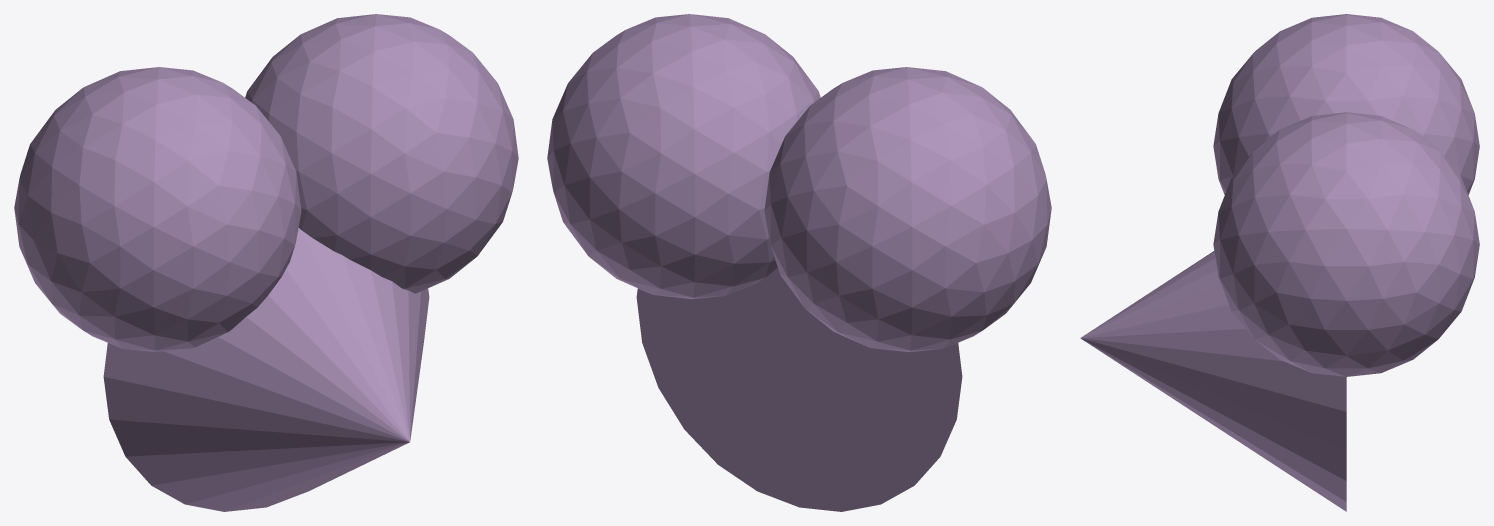
File: love_006.glb
3 views of the same model, side by side, from view 1: azimuth 30°, elevation 25°; view 2: azimuth 150°, elevation 25°; view 3: azimuth 270°, elevation 25° (orthographic). The views are drawn at different scales.
Parts seen in each view (by area): view 1: world; view 2: world; view 3: world.
Part boxes in pixels (bbox=[...]): world: bbox=[14, 14, 518, 511]; world: bbox=[547, 14, 1051, 511]; world: bbox=[1080, 14, 1479, 511].
Size of the model in its own units: 2.06 by 1.92 by 1.65.
